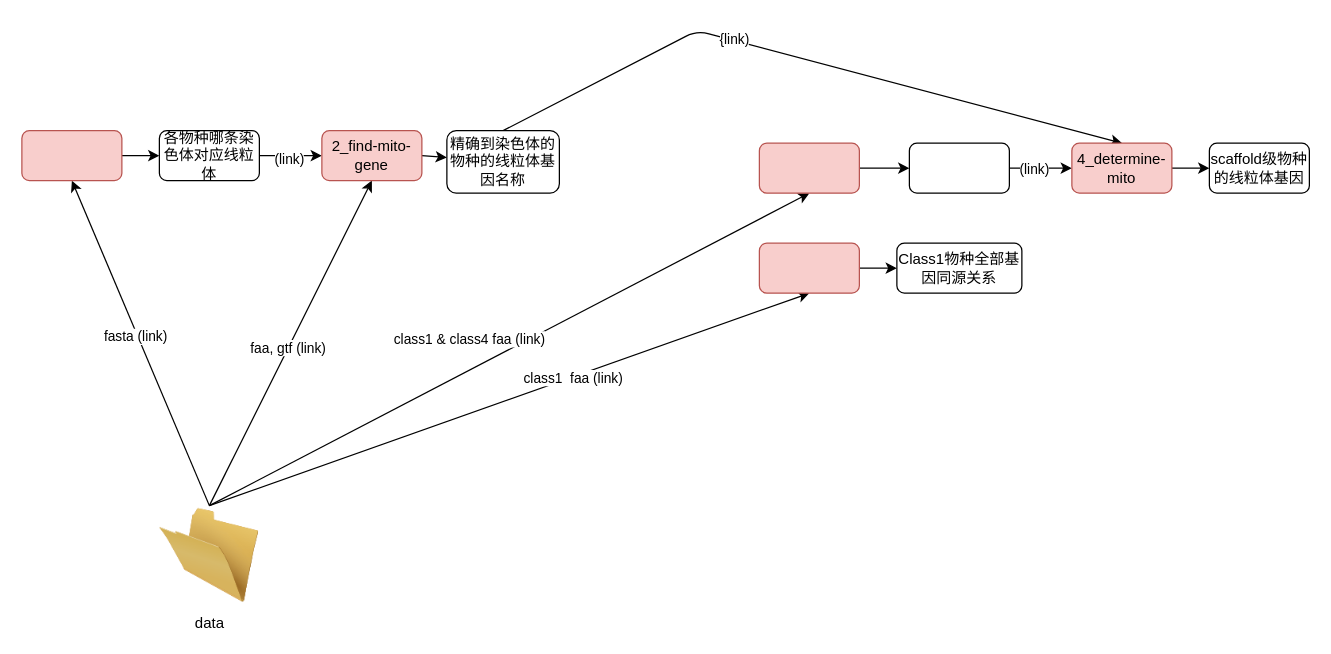
The diagram is 1331 pixels wide and 654 high, and some of its shapes have lost their labels. The shapes that lost their labels are listed below. From the top down, each one's centre as x and y in pixels, then its label:
the point at 71,155: 1_which-chrom-mito
the point at 808,167: 3_run-orthofinder
the point at 958,167: 各物种全部基因同源关系
the point at 808,267: 3_puzzle-OnlyClass1
